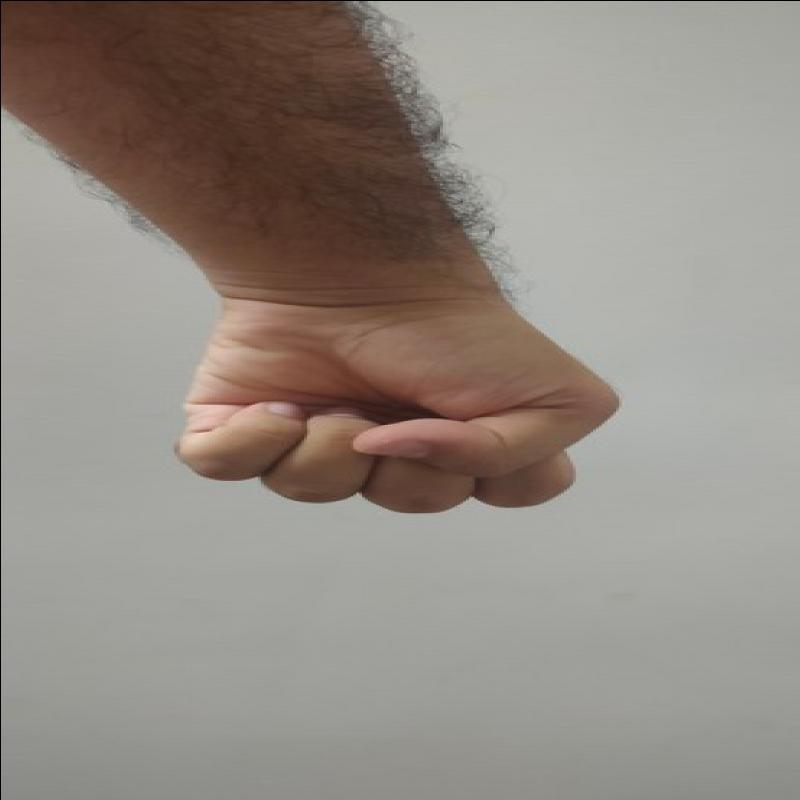Mushti: (147, 282, 635, 536)
